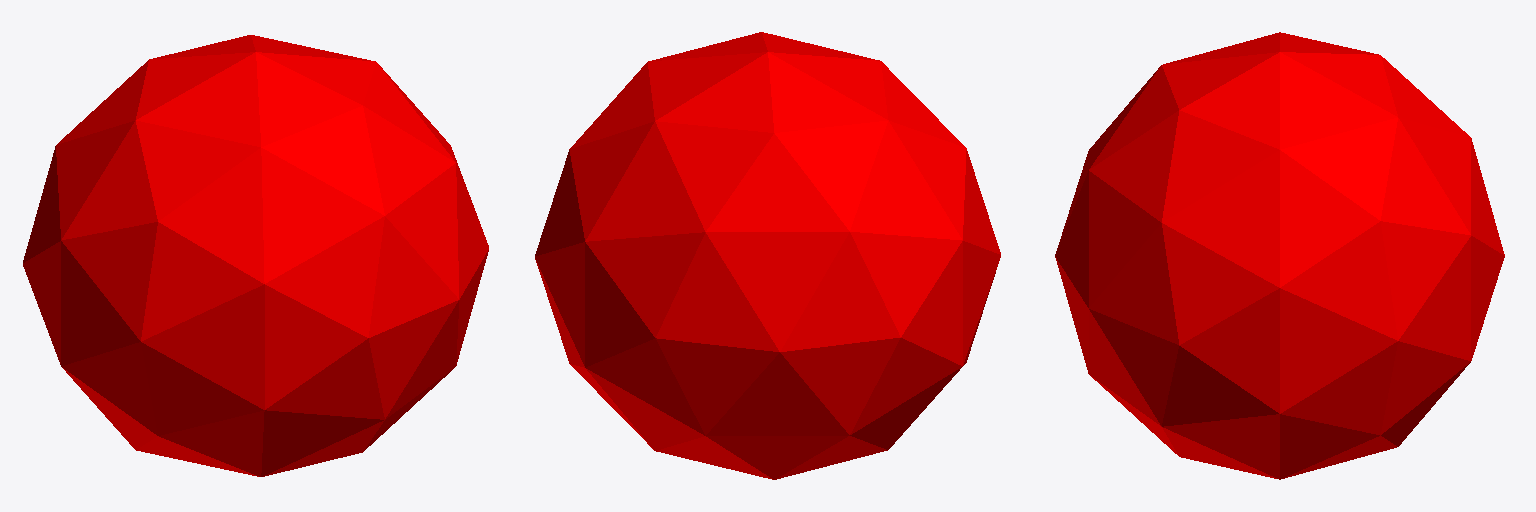
The model's file is manipulation_lever.obj.
3 views of the same model, side by side, from view 1: azimuth 30°, elevation 25°; view 2: azimuth 150°, elevation 25°; view 3: azimuth 270°, elevation 25° (orthographic).
Parts seen in each view (by area): view 1: Icosphere; view 2: Icosphere; view 3: Icosphere.
Part boxes in pixels (x1,y1,x2,y2): Icosphere: (23,35,488,476); Icosphere: (535,32,1000,479); Icosphere: (1055,32,1504,479).
Bounding box in the file's own units: 0.0889 × 0.0889 × 0.0889.